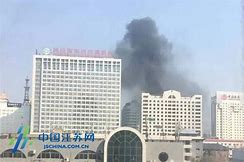smoke: (111, 16, 174, 90)
